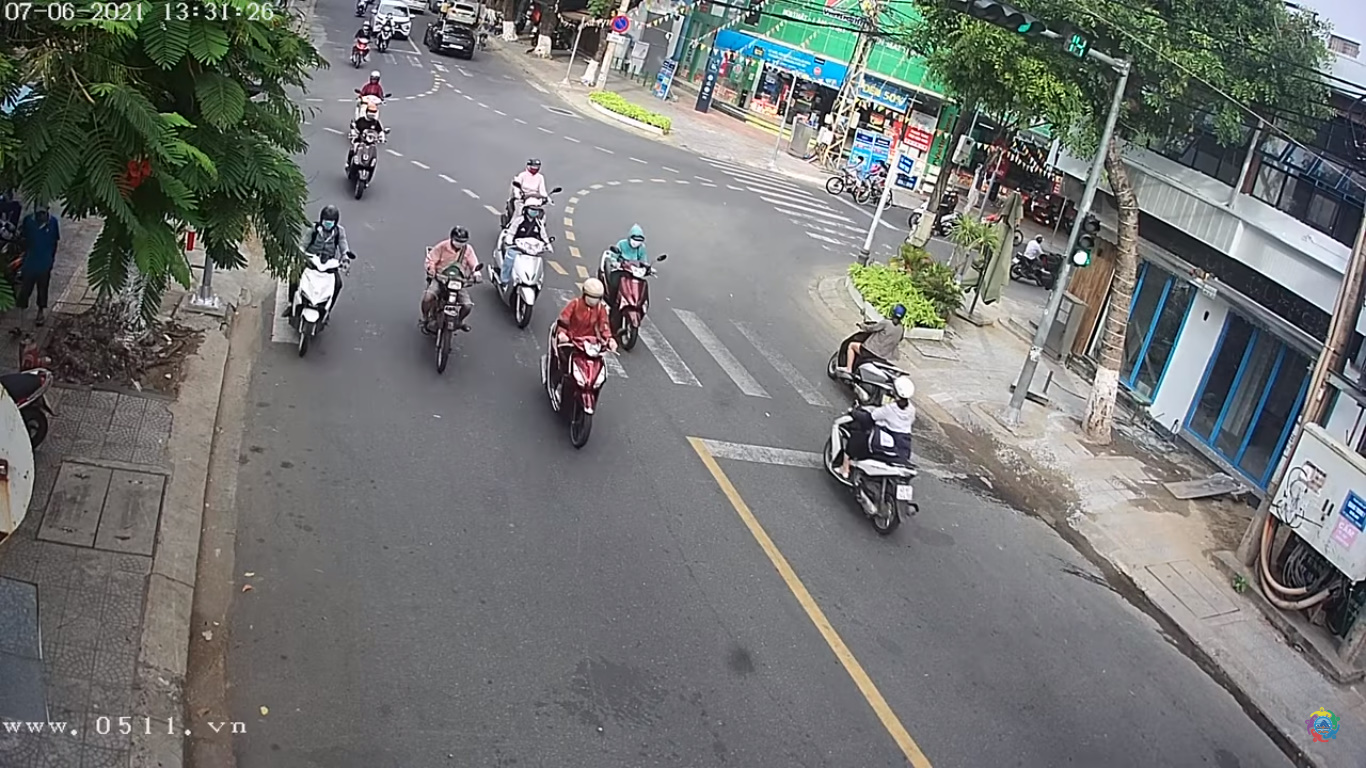motorbike: (544, 284, 623, 449), (418, 229, 490, 368), (290, 203, 354, 353), (602, 231, 661, 342), (507, 213, 551, 321), (352, 117, 387, 202)
